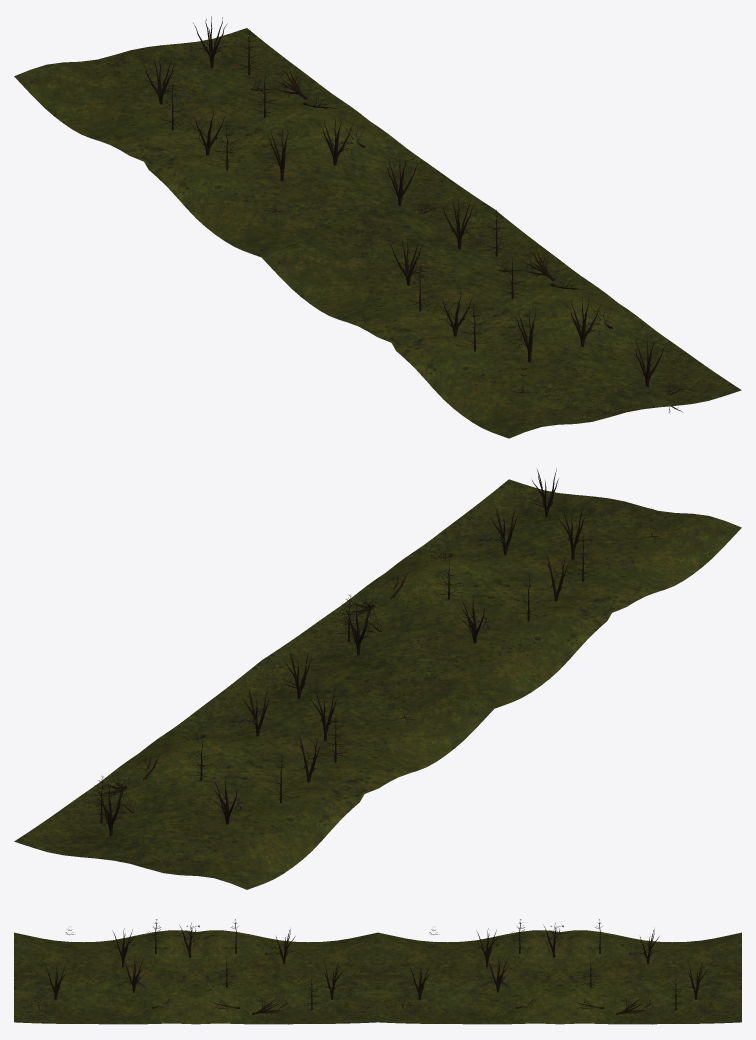
File: Forest Scene 2.fbx
3 renders of one model, top to bottom at view 1: azimuth 30°, elevation 25°; view 2: azimuth 150°, elevation 25°; view 3: azimuth 270°, elevation 25°, orthographic. The views are drawn at different scales.
Parts seen in each view (by area): view 1: Ground.001; view 2: Ground.001; view 3: Ground.001.
Part boxes in pixels (x1,y1,x2,y2): Ground.001: (14,16,741,438); Ground.001: (14,468,741,889); Ground.001: (14,919,741,1024).
Size of the model in its own units: 1022 by 350 by 3760.
